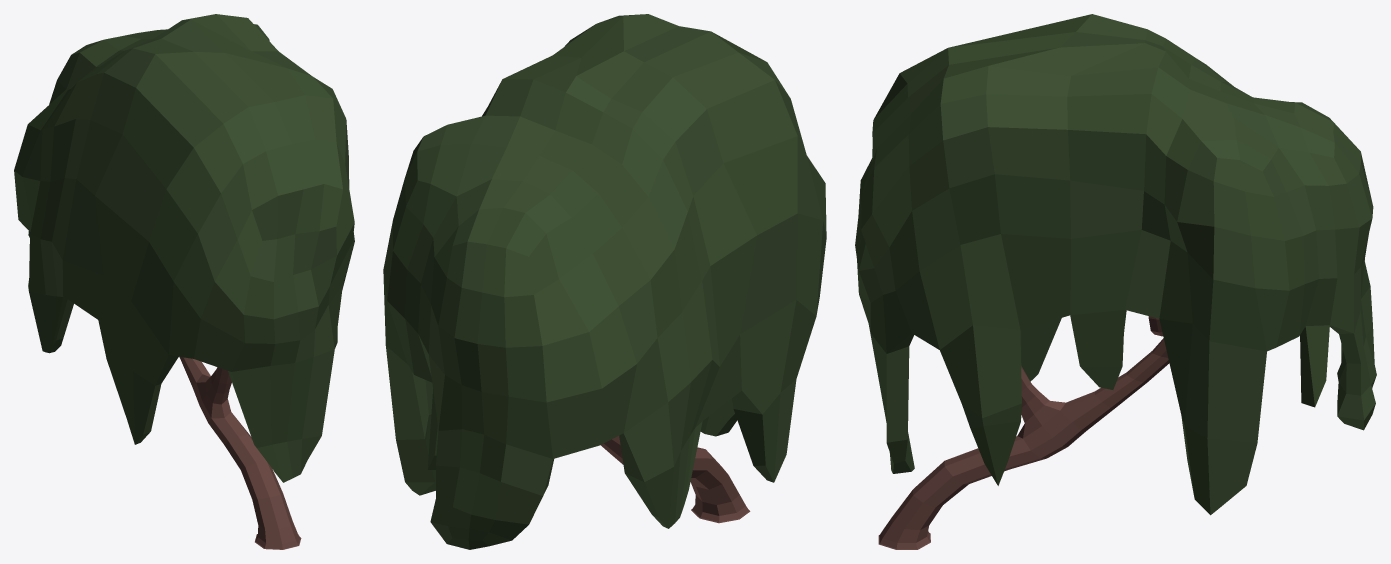
File: Willow_2.glb
The picture shows the model from 3 angles, left to right: view 1: azimuth 30°, elevation 25°; view 2: azimuth 150°, elevation 25°; view 3: azimuth 270°, elevation 25°; orthographic projection. The views are drawn at different scales.
Visible parts, largest first — view 1: Willow_2; view 2: Willow_2; view 3: Willow_2.
Boxes of the visible parts, bbox=[...] form: Willow_2: bbox=[14, 14, 354, 549]; Willow_2: bbox=[383, 14, 826, 549]; Willow_2: bbox=[855, 14, 1376, 549].
Size of the model in its own units: 0.782 by 1.33 by 1.24.
